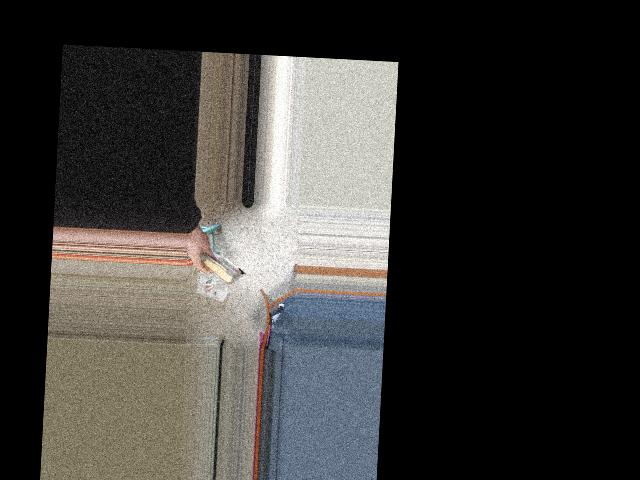cheese: (187, 247, 247, 286)
